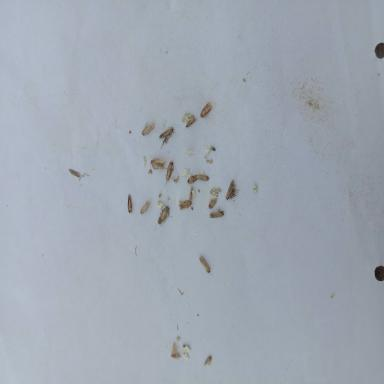pbw: (159, 127, 174, 149), (158, 205, 173, 227), (225, 180, 239, 200), (165, 160, 174, 186), (169, 340, 181, 359), (200, 101, 212, 118), (209, 206, 225, 218), (199, 256, 210, 273), (150, 158, 165, 170), (142, 121, 154, 135), (140, 199, 150, 214), (178, 200, 192, 210), (187, 174, 198, 185), (186, 115, 196, 127), (127, 194, 133, 213), (208, 198, 218, 208), (196, 174, 209, 181), (204, 356, 211, 366), (210, 188, 221, 194), (189, 186, 193, 200)
